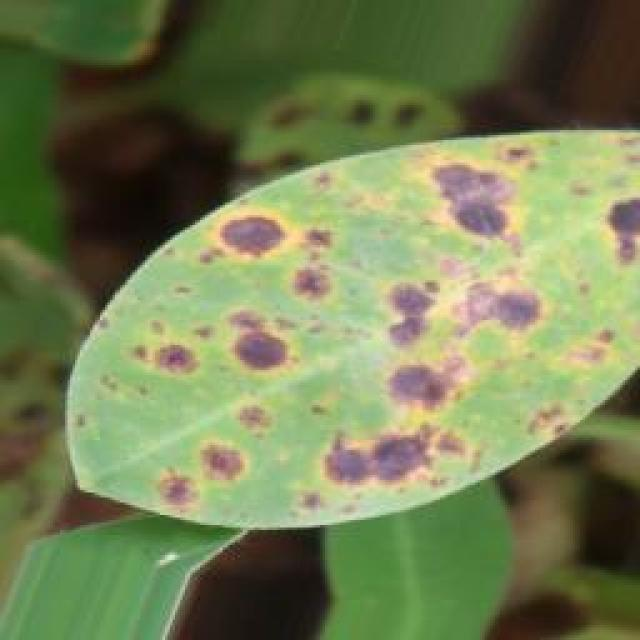Yellowish: (106, 131, 623, 517)
